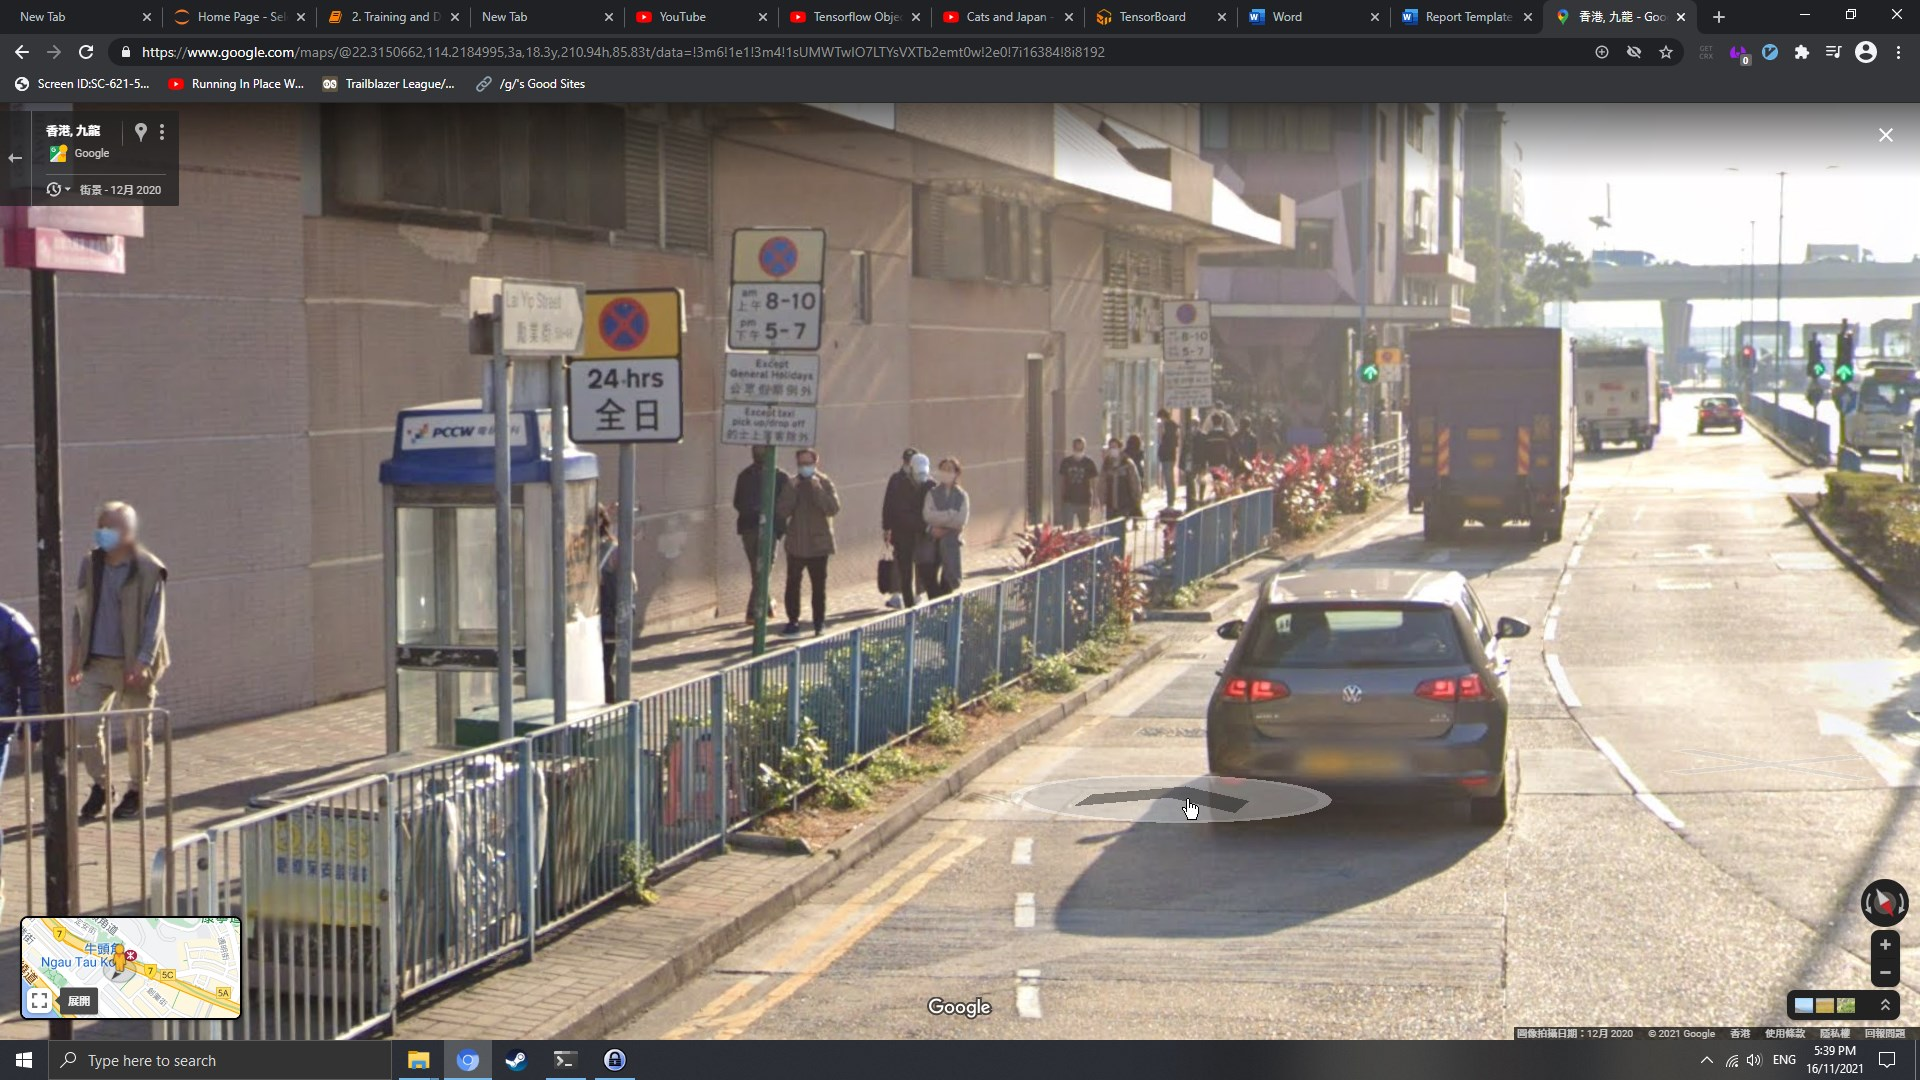NoStop: (597, 297, 649, 351)
